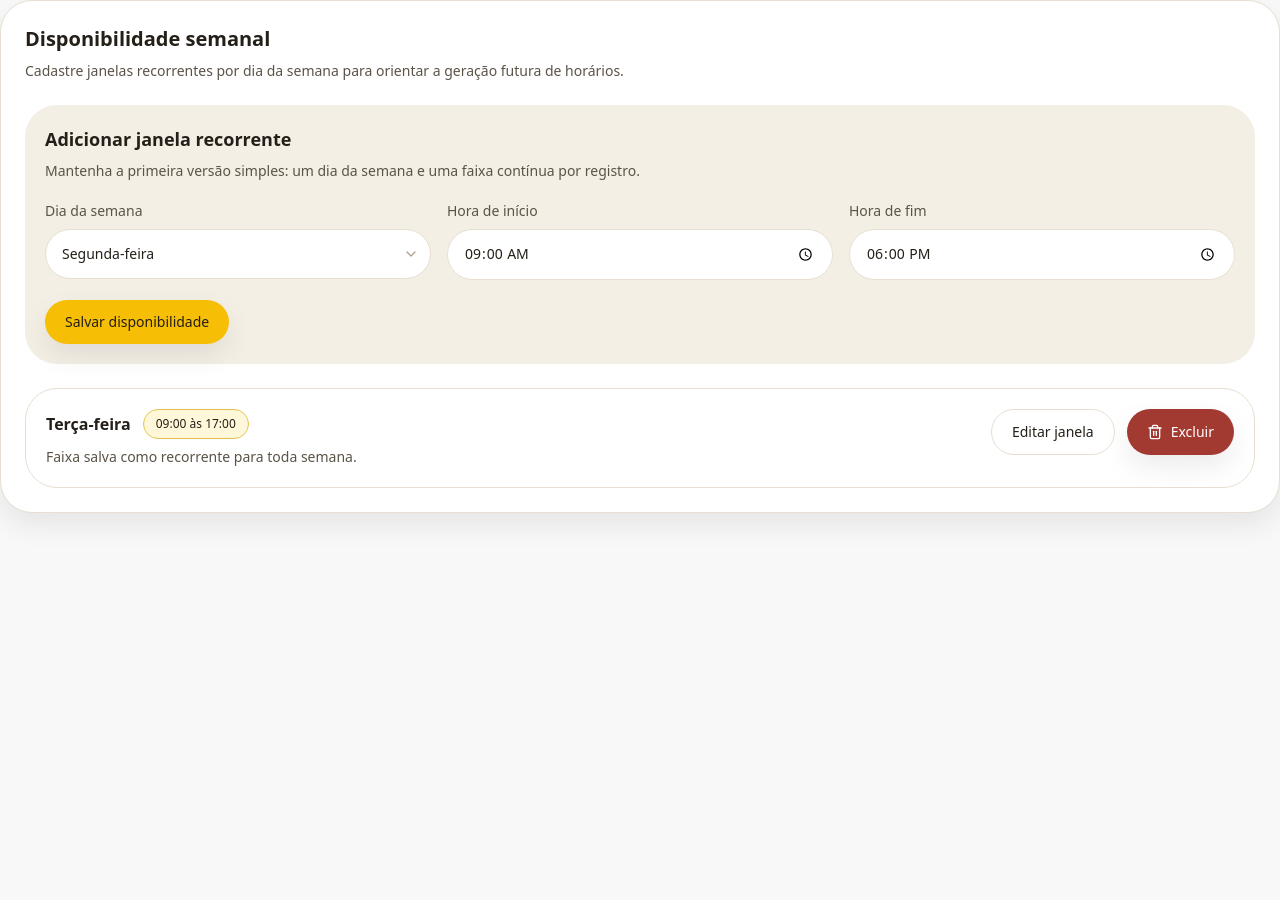
Test: ProfessionalAvailabilityManager › requires confirmation before deleting a weekly window
The width and height of the screenshot is (1280, 900).
Click the button "Excluir": (1180, 432) [1127,409,1234,455]
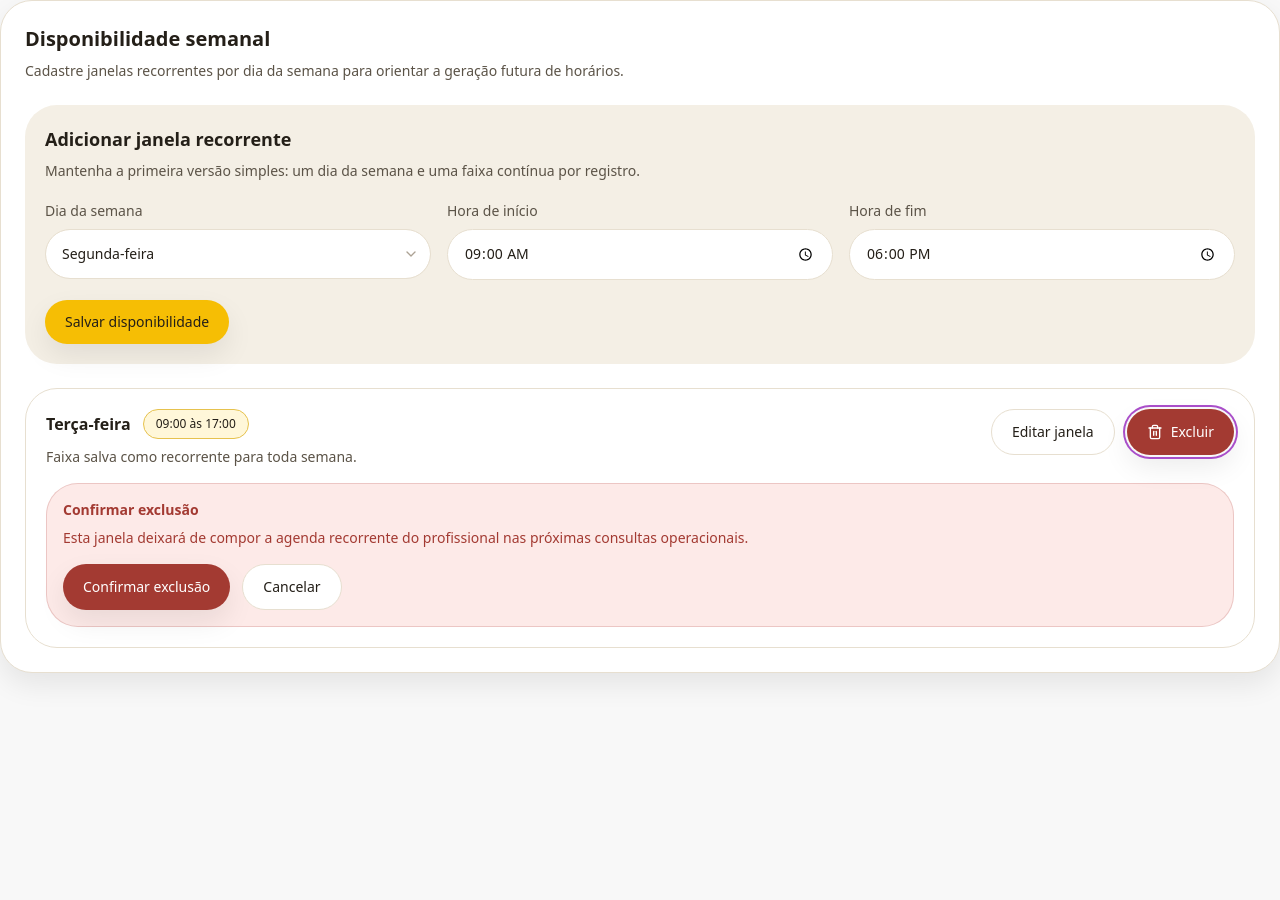
Now the text "Confirmar exclusão" is shown 2 times
Click the button "Confirmar exclusão": (147, 587) [63,564,230,610]
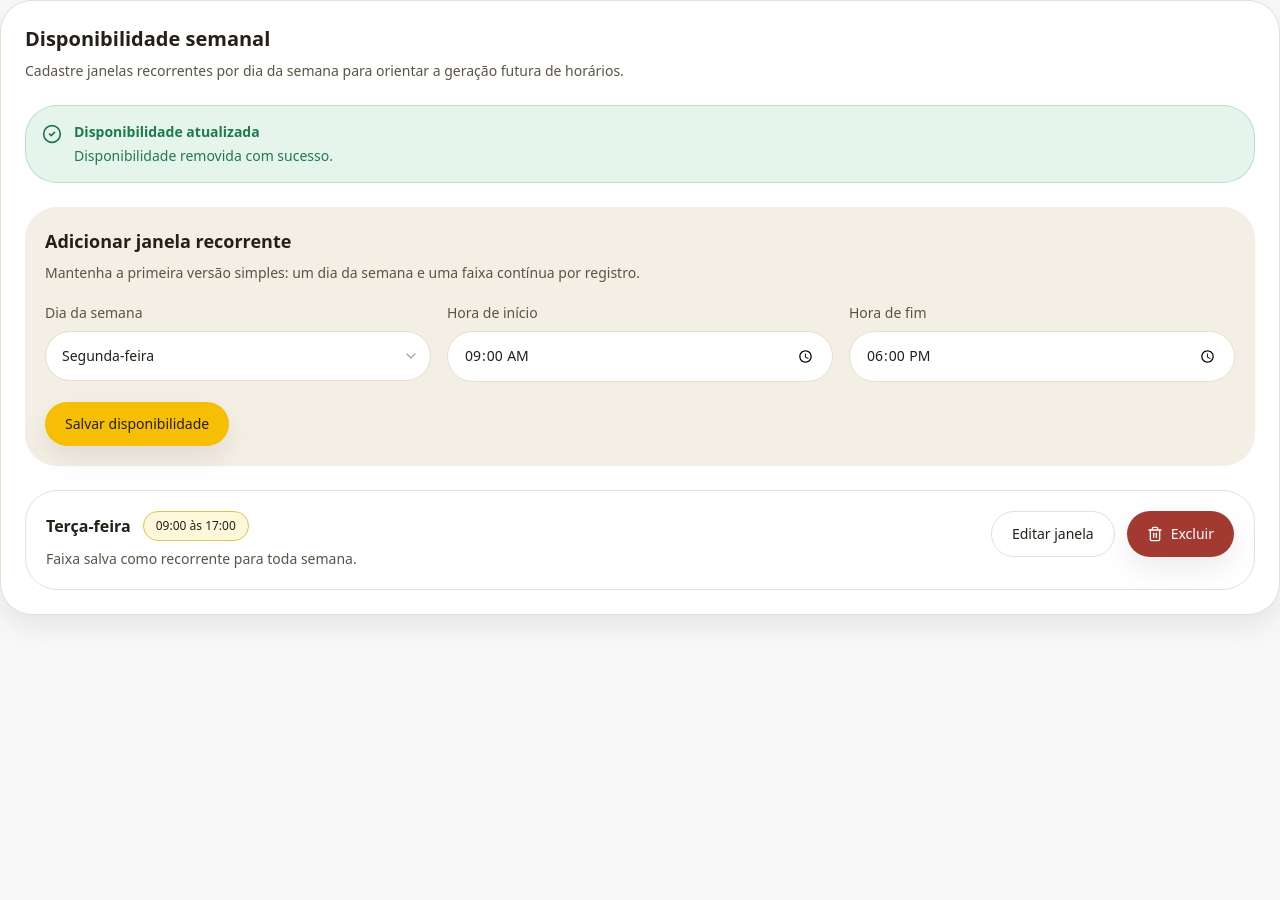
Now the text "Disponibilidade removida com sucesso." is shown, box [74,146,333,166]
